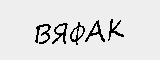А: (86, 18, 106, 43)
В: (32, 24, 51, 44)
К: (105, 18, 125, 41)
Ф: (67, 22, 84, 46)
Я: (50, 21, 68, 45)
